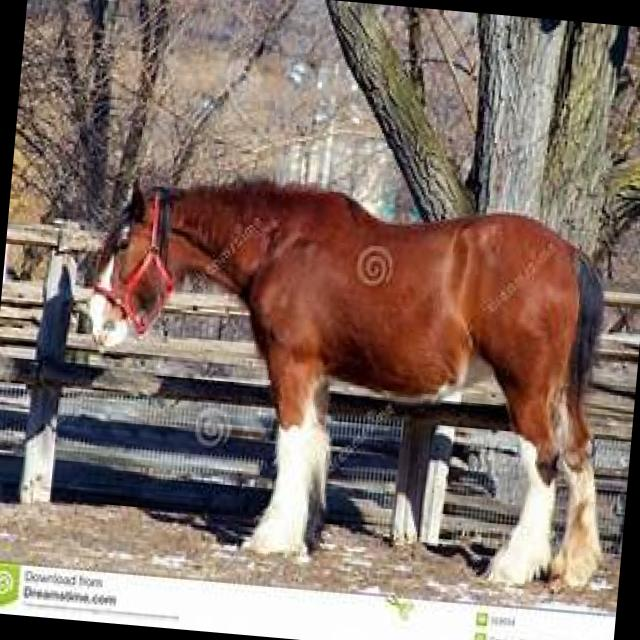horse: (67, 164, 624, 590)
